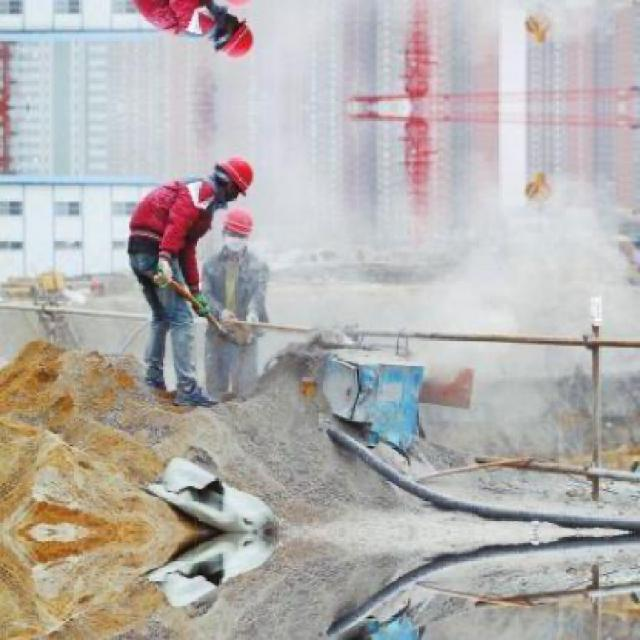helmet: (212, 12, 257, 62), (212, 151, 257, 200), (214, 207, 258, 256)
